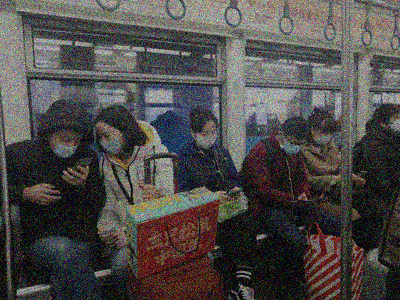with_mask: (51, 131, 81, 159), (96, 130, 126, 158), (197, 126, 219, 150), (281, 137, 305, 157), (315, 130, 332, 147), (387, 114, 400, 131)
